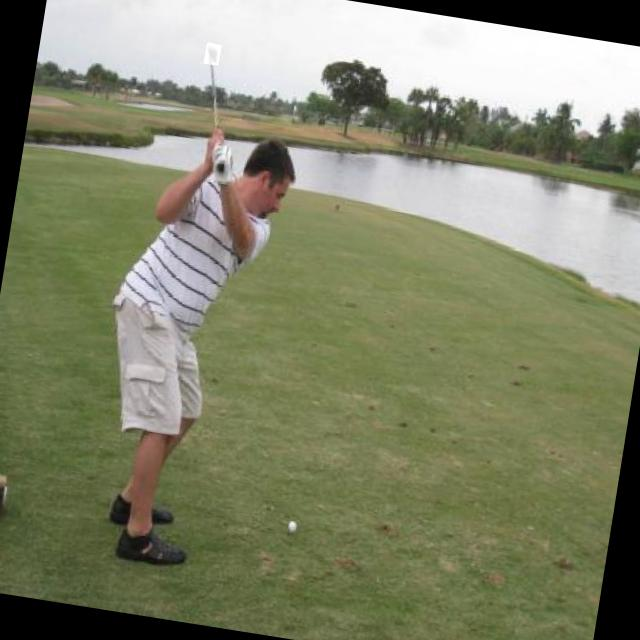club head: (204, 43, 222, 66)
